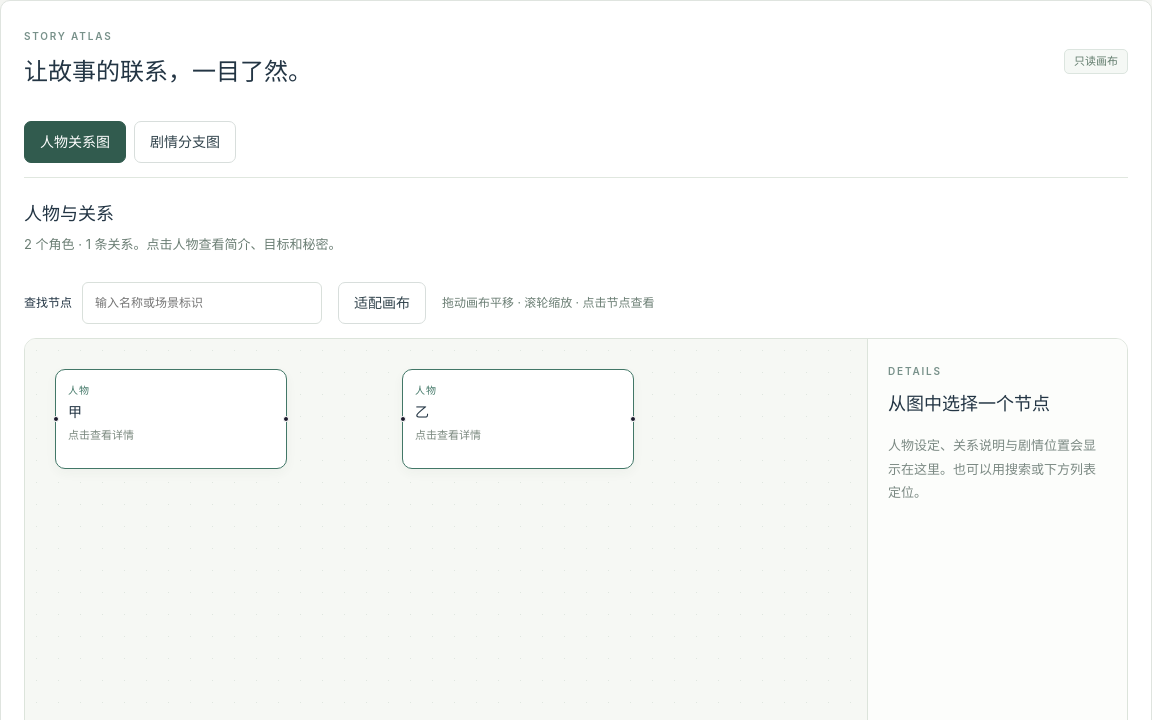
Test: V09–V11 read-only story atlas › shows relation details and searches without writing data
Step 1. Type "甲" into the field named "查找人物节点" → (202, 303), box [82,282,322,324]
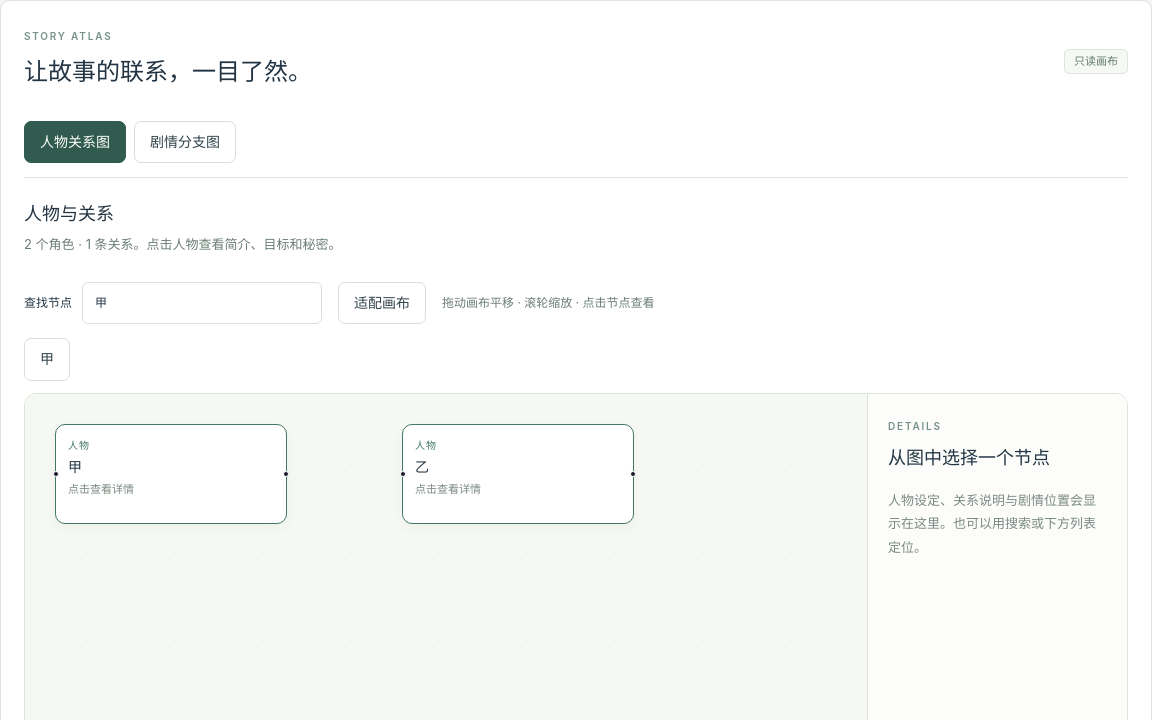
Step 2. Click the button "甲" → (47, 359), box [24,338,70,381]
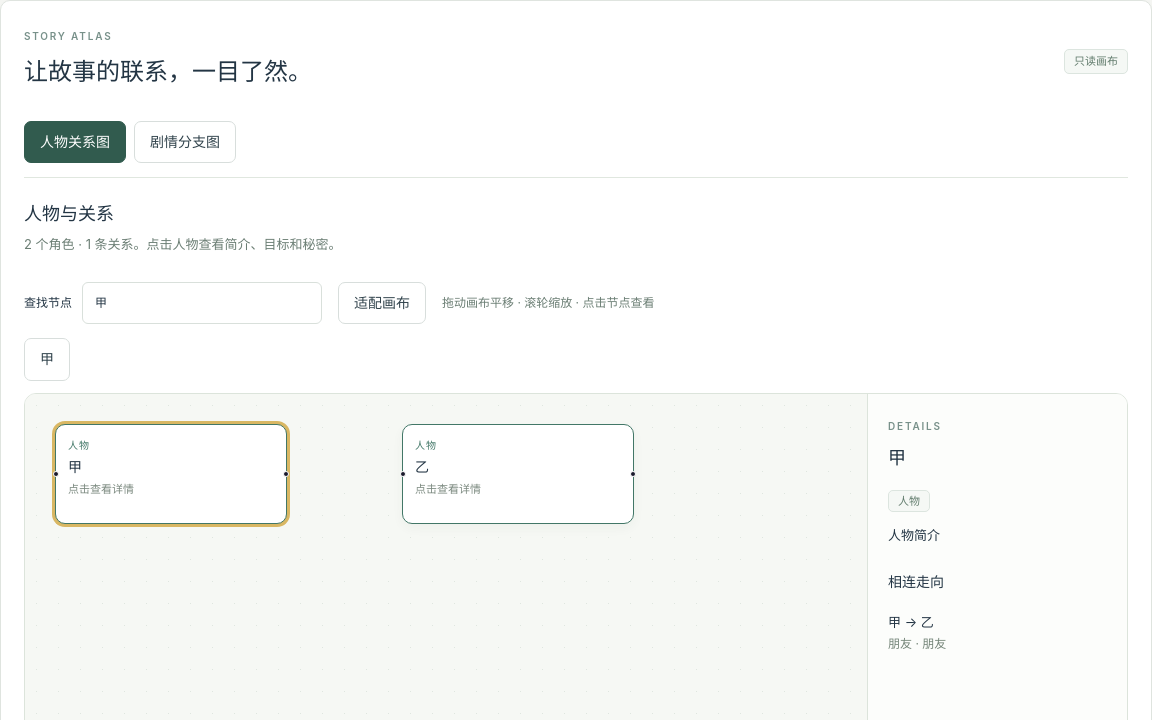
Now the heading "甲" is shown, box [888,447,906,468]
Now the text "人物简介" is shown, box [888,527,940,543]
